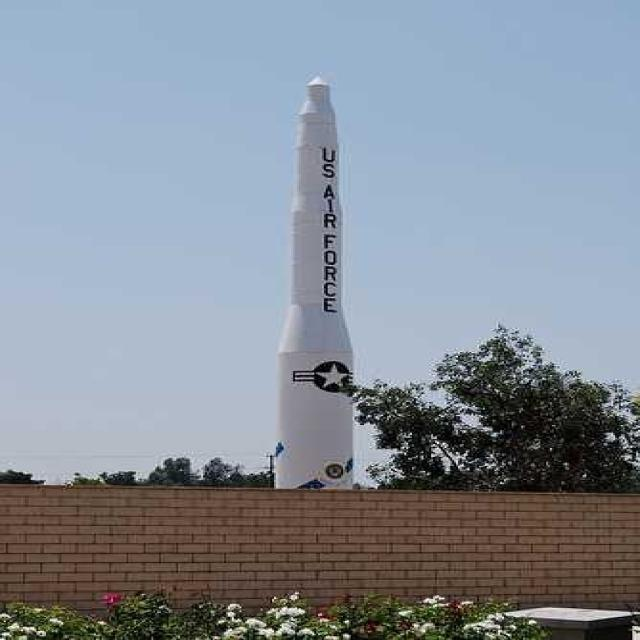missile: (278, 72, 366, 489)
